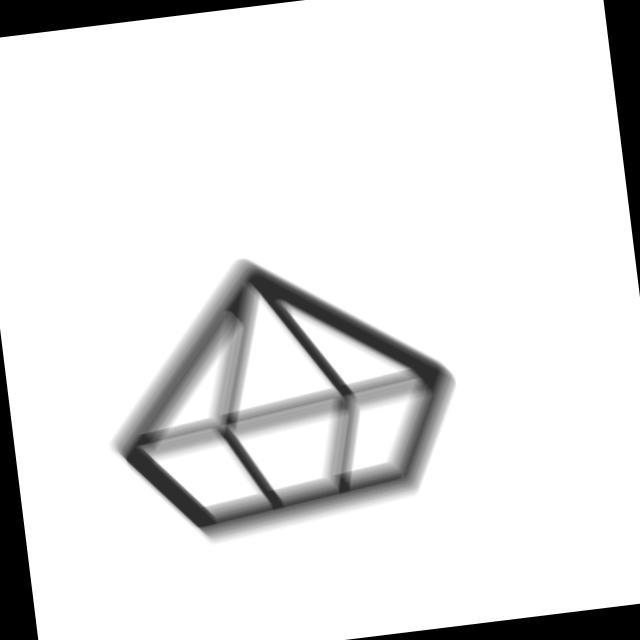diamond: (79, 225, 482, 564)
